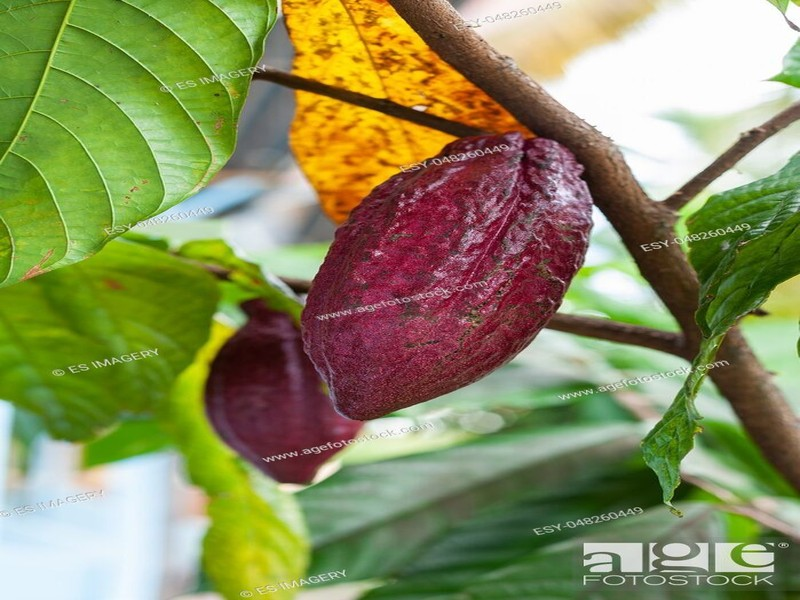Cacaopod: (299, 132, 597, 420)
